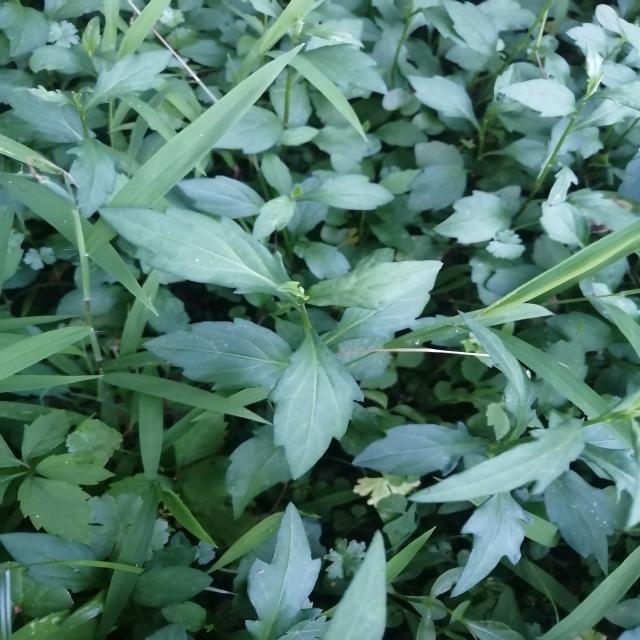Indian aster: (103, 196, 467, 452)
